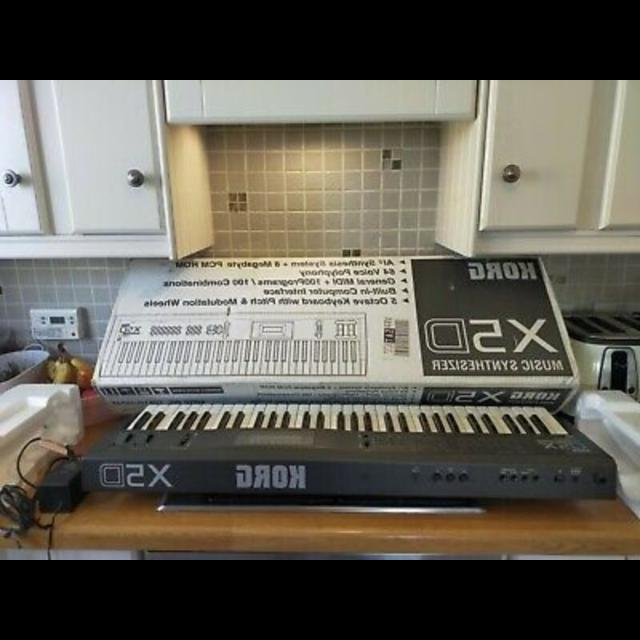Electronic-Keyboard: (71, 404, 628, 501)
